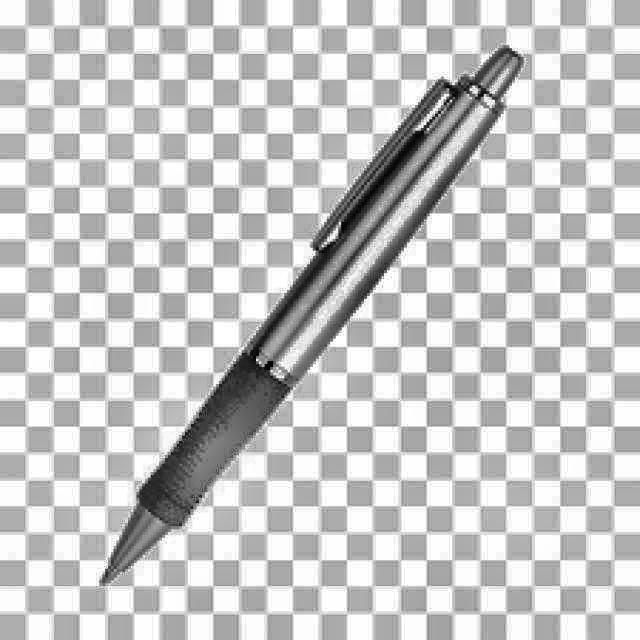Pen: (88, 17, 532, 599)
